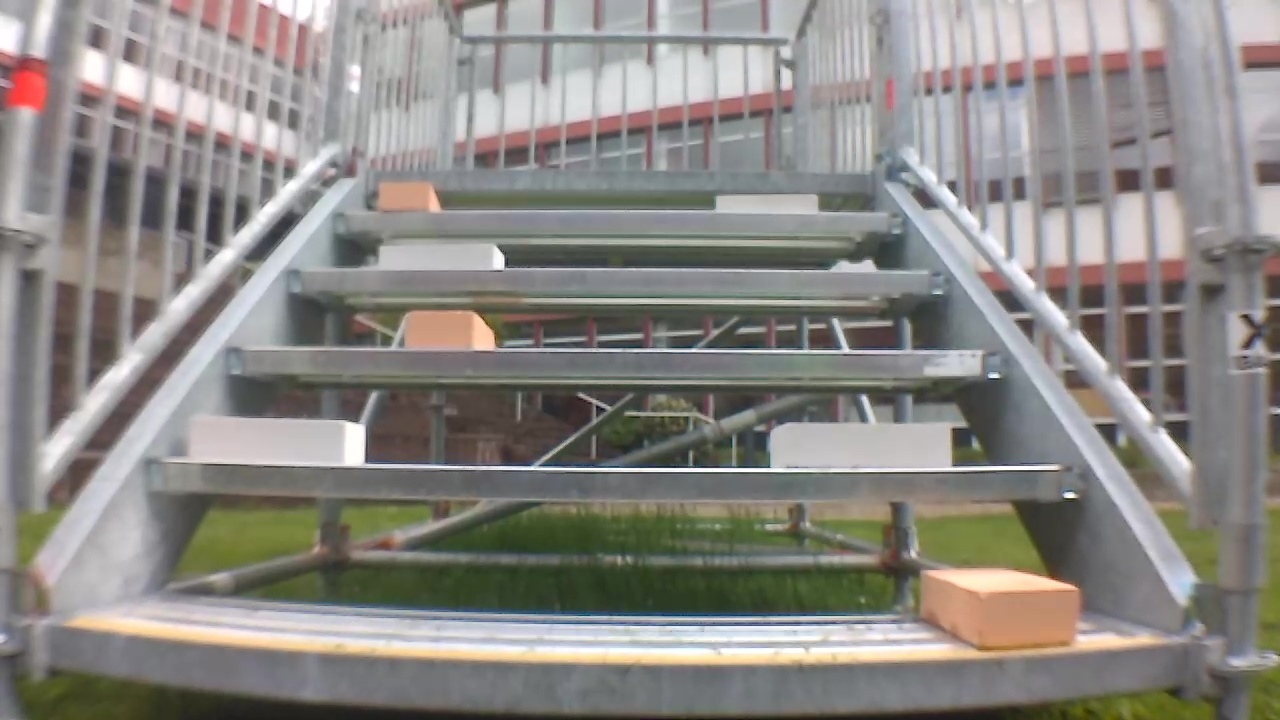brick: (921, 567, 1076, 649), (770, 423, 951, 468), (190, 417, 364, 463), (407, 313, 496, 351), (379, 244, 505, 269), (717, 193, 817, 213), (378, 181, 439, 210)
edge: (52, 623, 1189, 714), (146, 460, 1086, 501), (229, 348, 1004, 378), (288, 268, 949, 293), (335, 211, 904, 234), (366, 170, 873, 193)
stairs: (4, 3, 1268, 716)
steps: (38, 164, 1201, 716)
